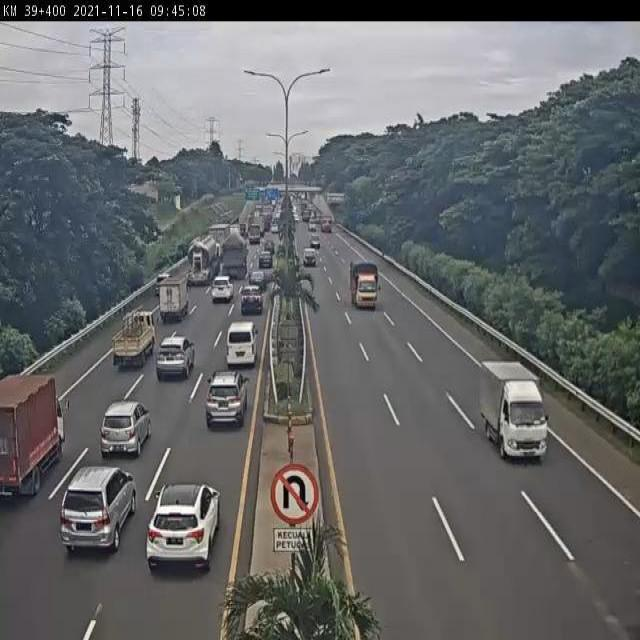car: (146, 481, 219, 571), (61, 470, 135, 550), (101, 402, 152, 454), (205, 371, 247, 428), (154, 341, 189, 380), (227, 320, 257, 365), (212, 274, 233, 302), (242, 286, 263, 314), (246, 270, 268, 294), (151, 276, 168, 299)
mid truck: (221, 234, 248, 278)
small truck: (0, 373, 64, 498), (481, 360, 551, 463), (111, 308, 153, 368), (156, 280, 187, 323)
truck-m-: (350, 260, 380, 309)
truck-xl-: (186, 236, 215, 284)
